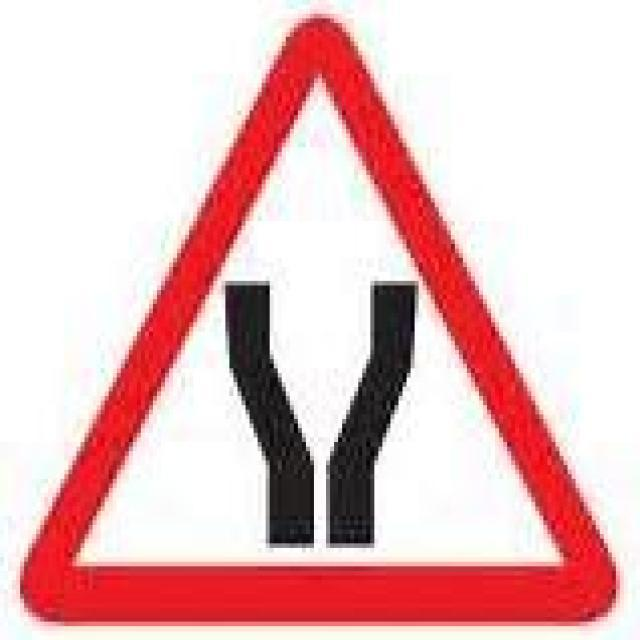road widens ahead: (24, 19, 619, 623)
